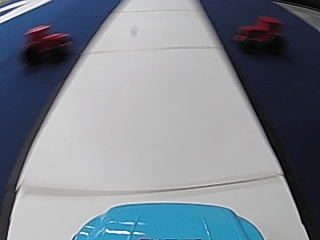tractor: (21, 21, 72, 65), (232, 14, 284, 55)
